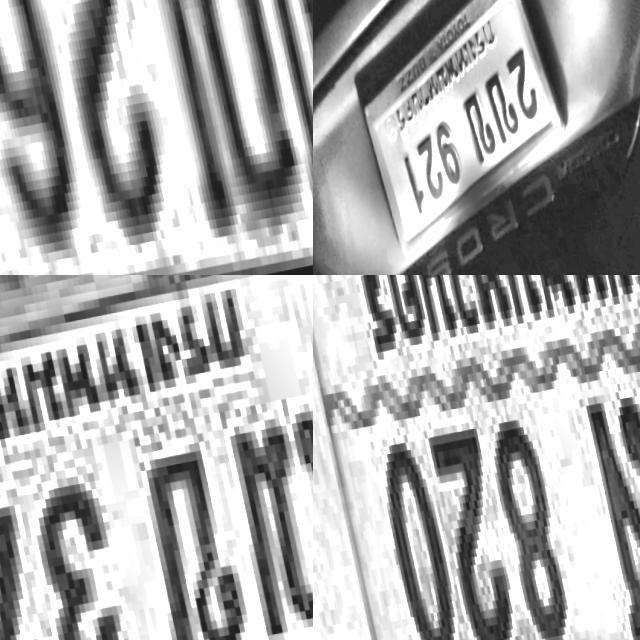license-plate: (313, 275, 640, 640), (0, 275, 313, 640), (0, 0, 313, 275), (331, 0, 585, 267)
